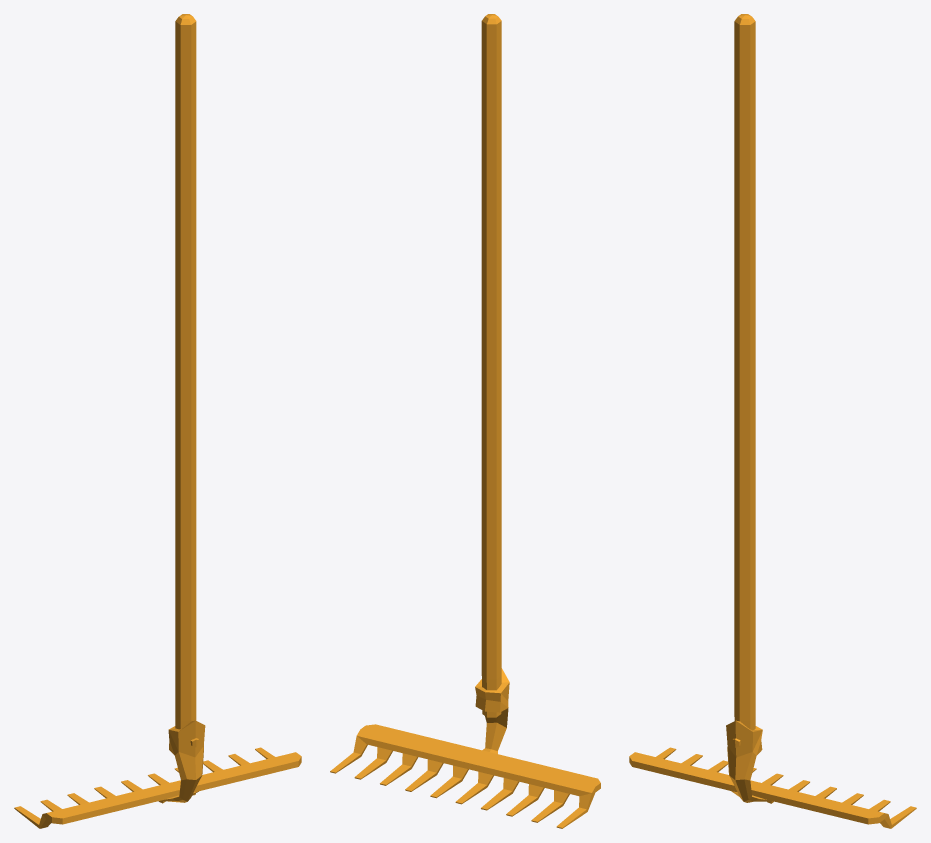
The model's file is SM_Rake_A.fbx.
3 renders of one model, left to right at view 1: azimuth 30°, elevation 25°; view 2: azimuth 150°, elevation 25°; view 3: azimuth 330°, elevation 25°, orthographic. The views are drawn at different scales.
Visible parts, largest first — view 1: rake-a; view 2: rake-a; view 3: rake-a.
Part boxes in pixels (box(x1,y1,x2,y2)): rake-a: box(14, 14, 301, 828); rake-a: box(330, 14, 600, 828); rake-a: box(629, 14, 916, 828).
Bounding box in the file's own units: 0.4575 × 1.4 × 0.1858.
